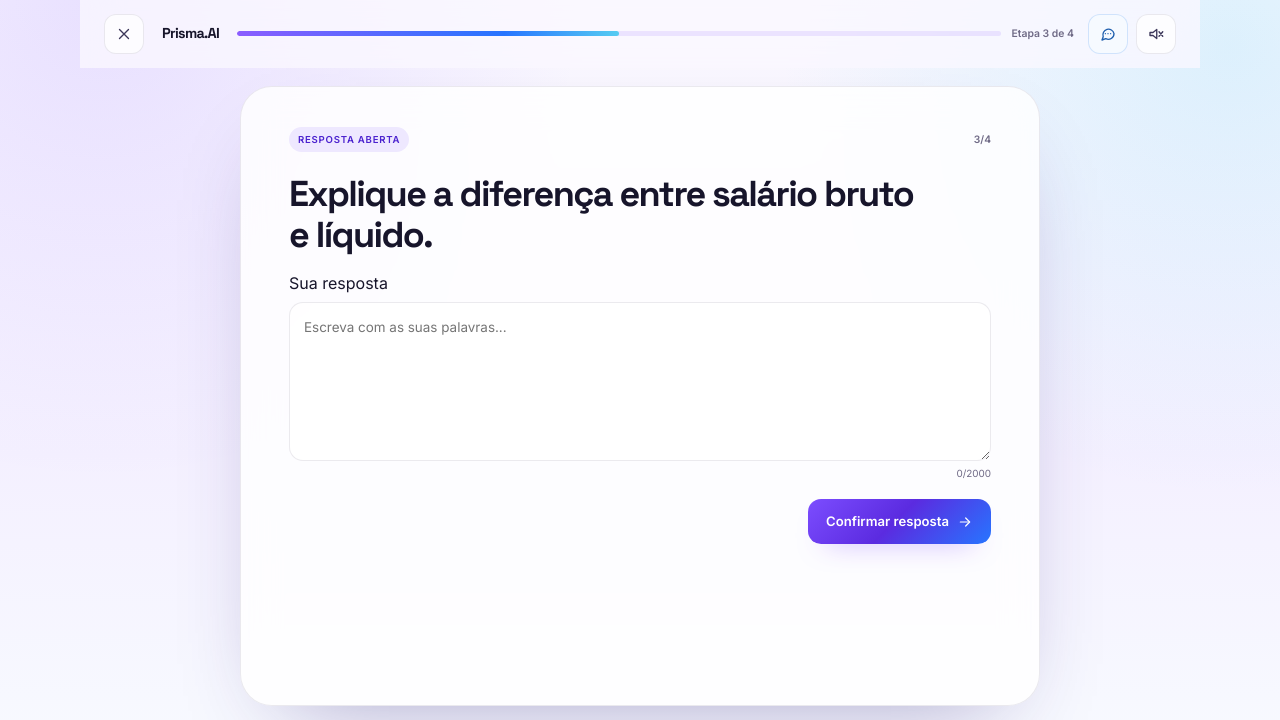
LessonPlayerPage › lets the student rewrite an open answer when the Mentor needs clarification
The width and height of the screenshot is (1280, 720).
Type "Acho que tem a ver com descontos." into the text box with placeholder "Escreva com as suas palavras..." at (640,381), box [289, 302, 991, 461]
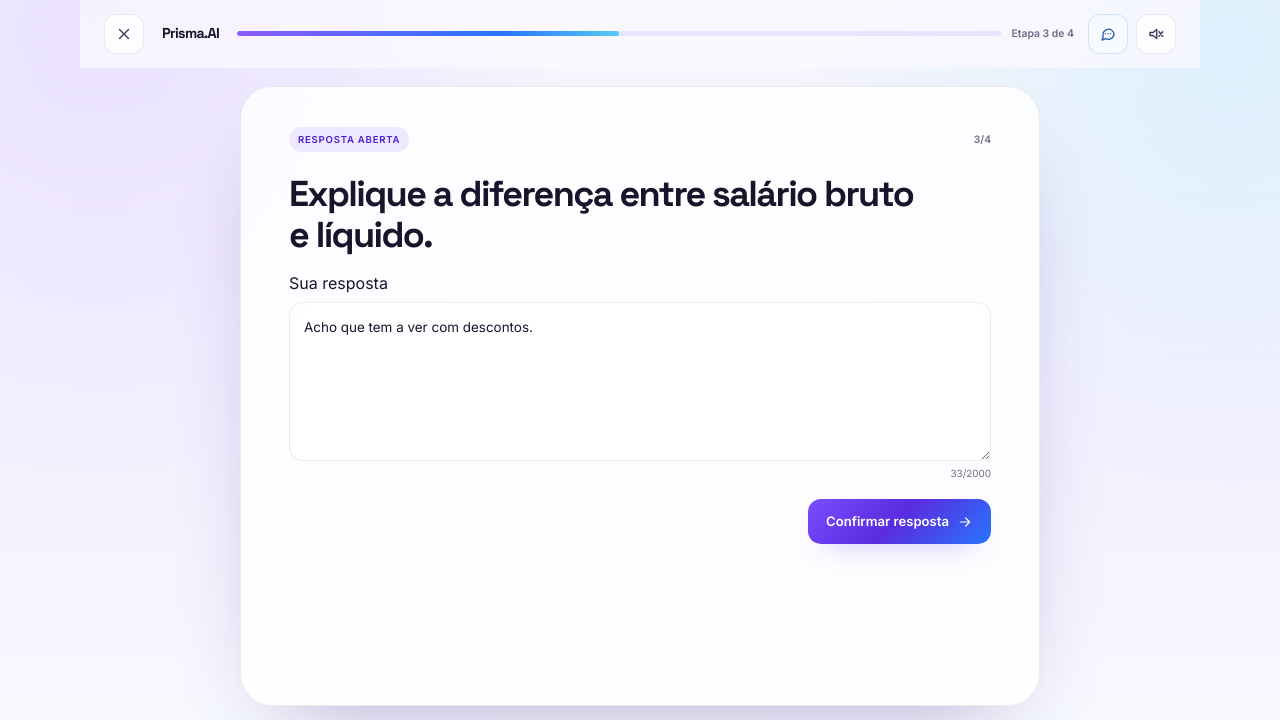
Click the button "Confirmar resposta" at (900,522), box [808, 499, 991, 544]
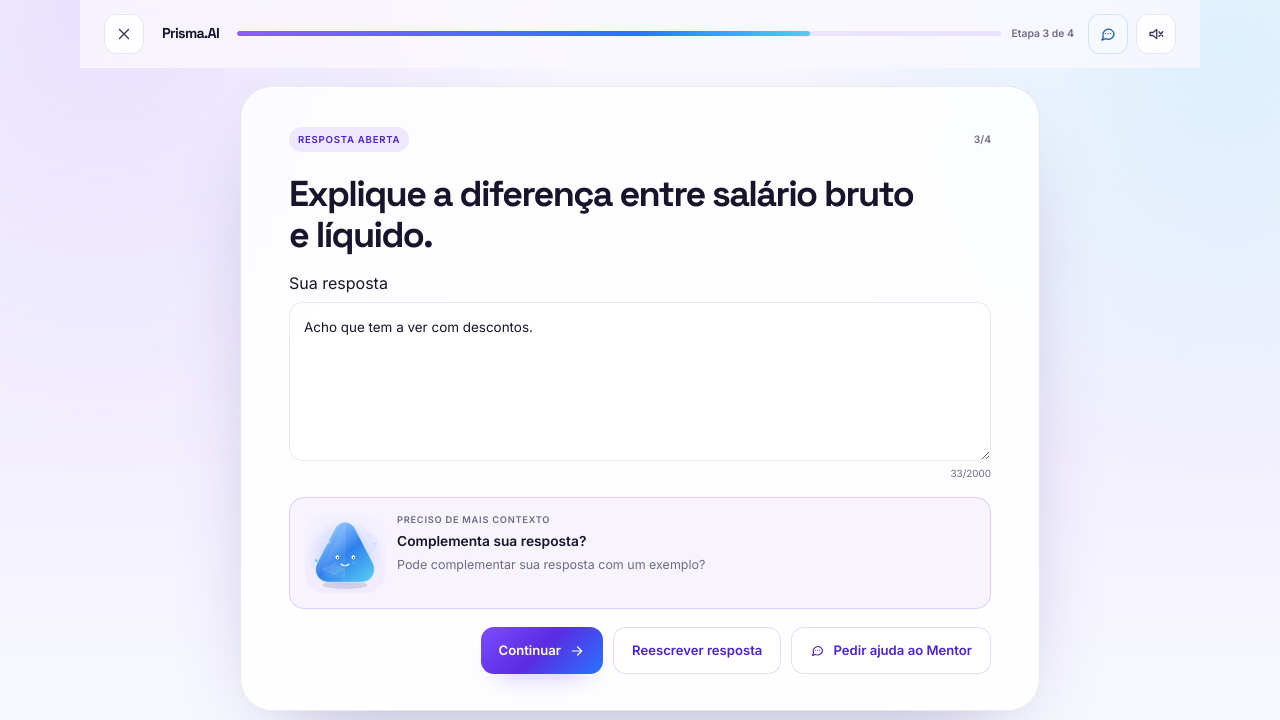
Now the text "Preciso de mais contexto" is shown, box [397, 514, 550, 525]
Now the button "Reescrever resposta" is shown
Click the button "Reescrever resposta" at (697,651), box [613, 627, 781, 674]
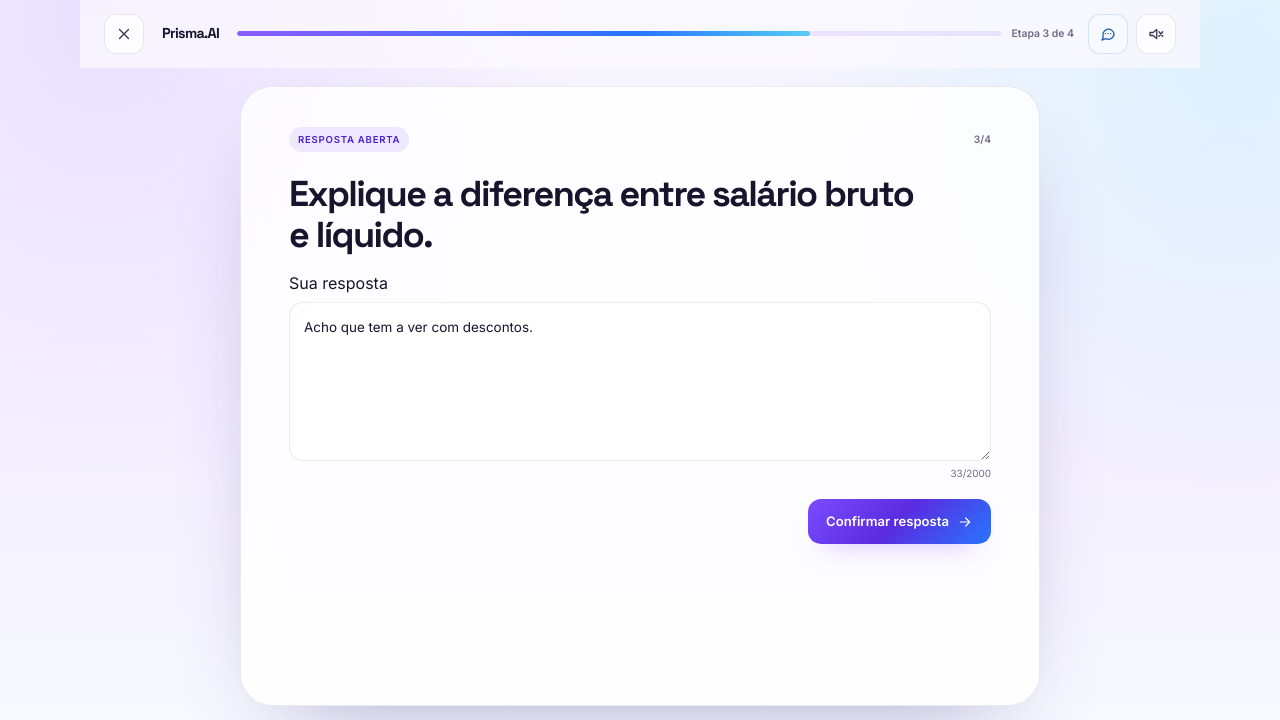
Expected: the text box with placeholder "Escreva com as suas palavras..." is enabled, [289, 302, 991, 461]
Now the button "Confirmar resposta" is shown, box [808, 499, 991, 544]
